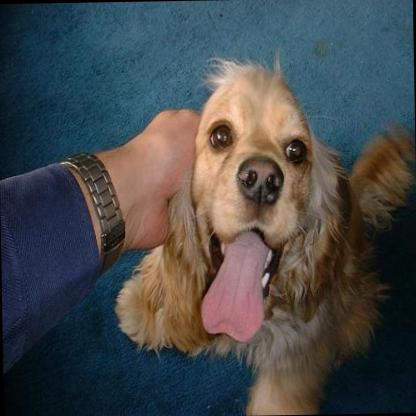cocker_spaniel: (110, 54, 416, 415)
